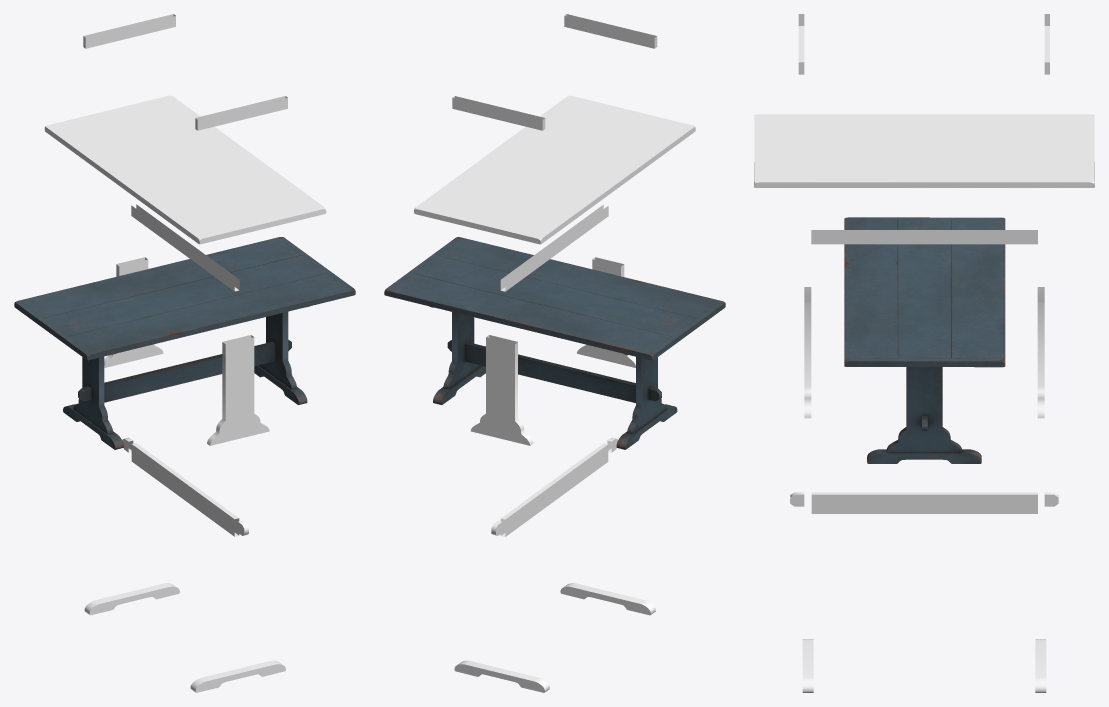
Rendered from painted_wooden_table.glb.
3 views of the same model, side by side, from view 1: azimuth 30°, elevation 25°; view 2: azimuth 150°, elevation 25°; view 3: azimuth 270°, elevation 25° (orthographic). The views are drawn at different scales.
Parts seen in each view (by area): view 1: 06_old, painted_wooden_table; view 2: 06_old, painted_wooden_table; view 3: 06_old, painted_wooden_table.
Boxes of the visible parts, x1,y1,x2,y2 form: 06_old: (44,14,326,692); painted_wooden_table: (14,237,355,449); 06_old: (414,14,695,692); painted_wooden_table: (384,237,725,449); 06_old: (754,14,1094,692); painted_wooden_table: (844,217,1005,463).
Bounding box in the file's own units: 2.41 × 4.92 × 2.41.
2 materials, 1 textured.
